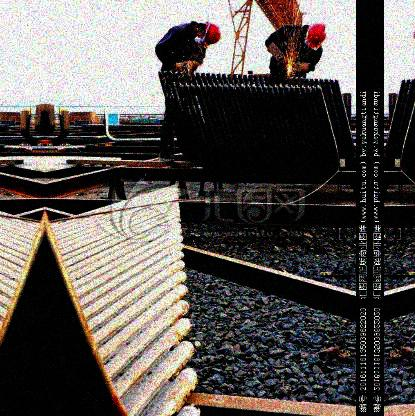helmet: (302, 23, 327, 51), (196, 22, 220, 44)
